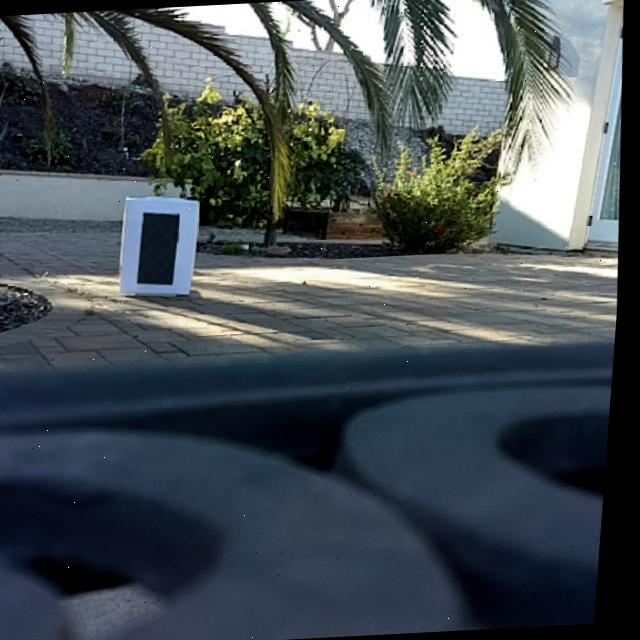led: (136, 207, 190, 290)
